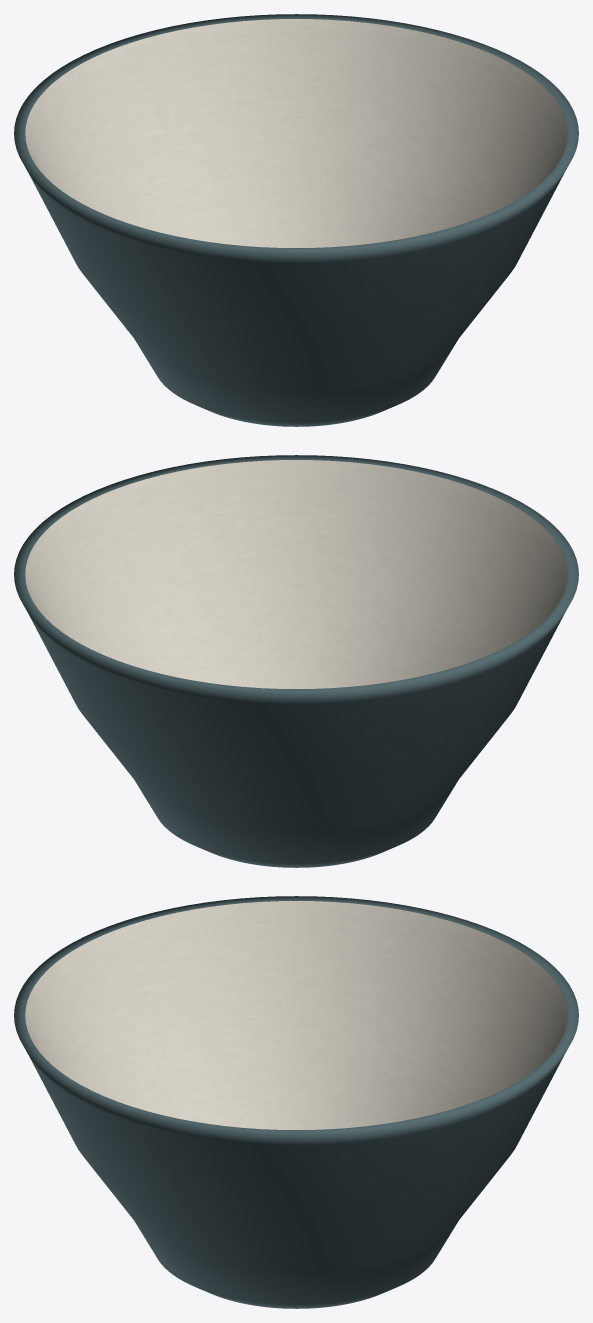
File: intact.glb
The picture shows the model from 3 angles, top to bottom: view 1: azimuth 30°, elevation 25°; view 2: azimuth 150°, elevation 25°; view 3: azimuth 270°, elevation 25°; orthographic projection.
Visible parts, largest first — view 1: bowl-component-000-ivory, bowl-component-000-blue; view 2: bowl-component-000-ivory, bowl-component-000-blue; view 3: bowl-component-000-ivory, bowl-component-000-blue.
Part boxes in pixels (x1=…): bowl-component-000-ivory: x1=25, y1=19, x2=567, y2=247; bowl-component-000-blue: x1=14, y1=14, x2=578, y2=426; bowl-component-000-ivory: x1=25, y1=460, x2=567, y2=688; bowl-component-000-blue: x1=14, y1=455, x2=578, y2=867; bowl-component-000-ivory: x1=25, y1=901, x2=567, y2=1129; bowl-component-000-blue: x1=14, y1=896, x2=578, y2=1308.
Size of the model in its own units: 0.15 by 0.071 by 0.15.
Materials: 2 (2 with a texture image).
